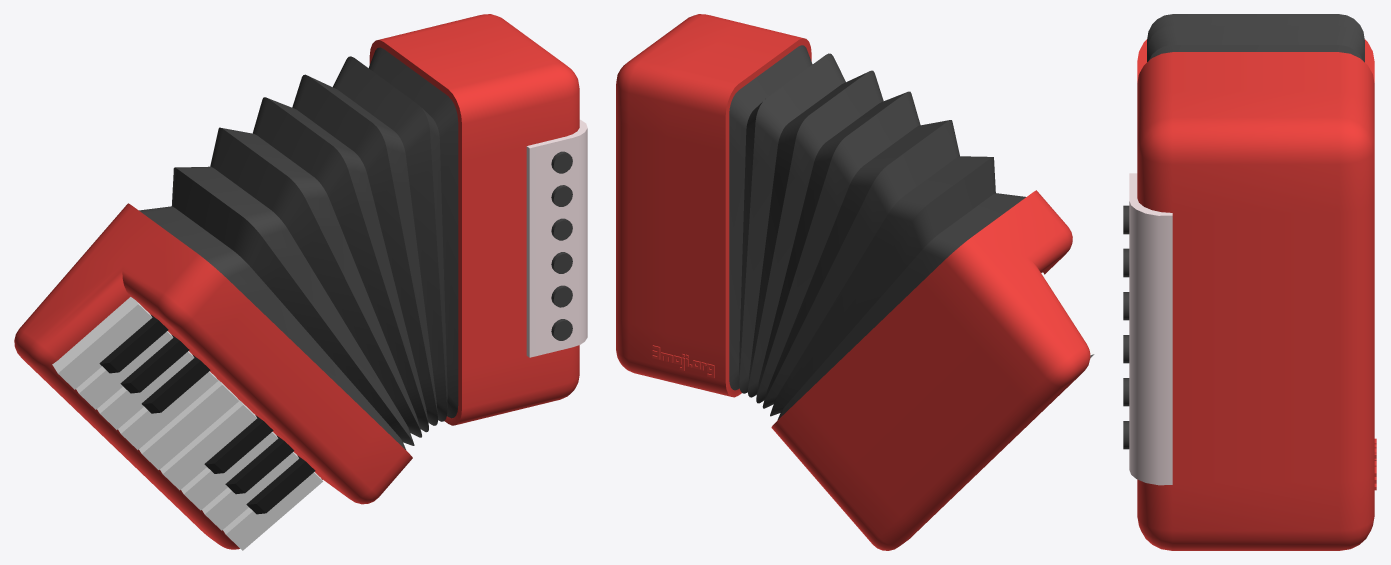
File: accordion.fbx
3 views of the same model, side by side, from view 1: azimuth 30°, elevation 25°; view 2: azimuth 150°, elevation 25°; view 3: azimuth 270°, elevation 25° (orthographic). The views are drawn at different scales.
Parts seen in each view (by area): view 1: Cube.911; view 2: Cube.911; view 3: Cube.911.
Part boxes in pixels (box(x1,y1,x2,y2)): Cube.911: box(14, 14, 587, 550); Cube.911: box(616, 14, 1094, 550); Cube.911: box(1123, 14, 1376, 550).
Size of the model in its own units: 231 by 204 by 79.3.
Materials: 1 (1 with a texture image).
